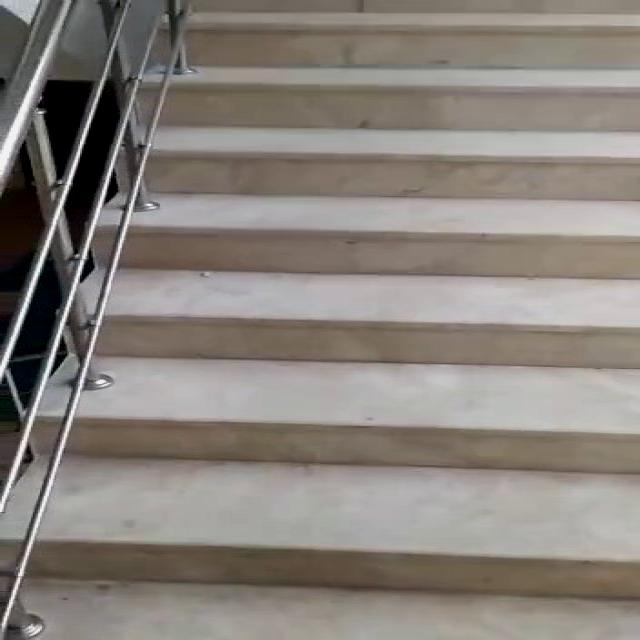stair: (44, 3, 640, 596)
